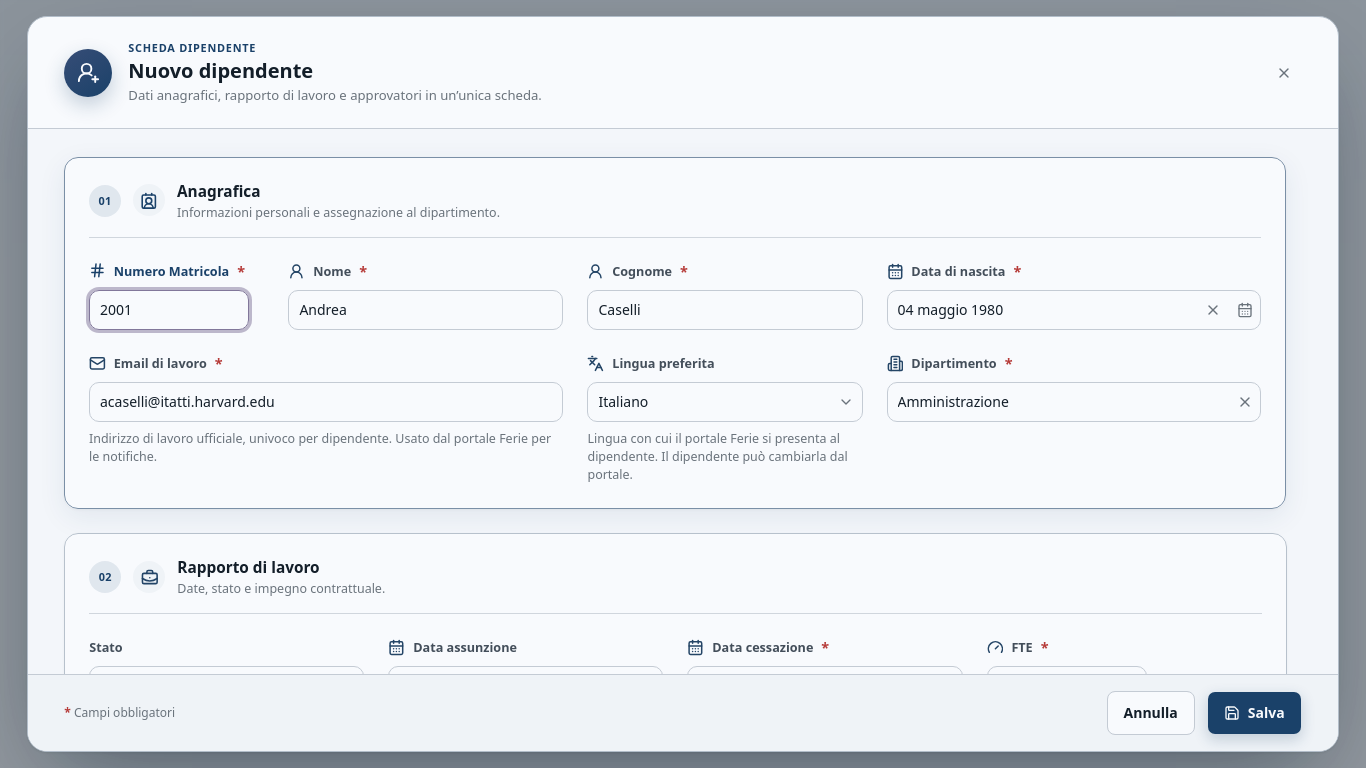
EmployeeForm validation feedback › explains the cross-field date rules on the field they blame
Click the button "Salva". click: (1254, 713)
box: [1207,691,1302,735]
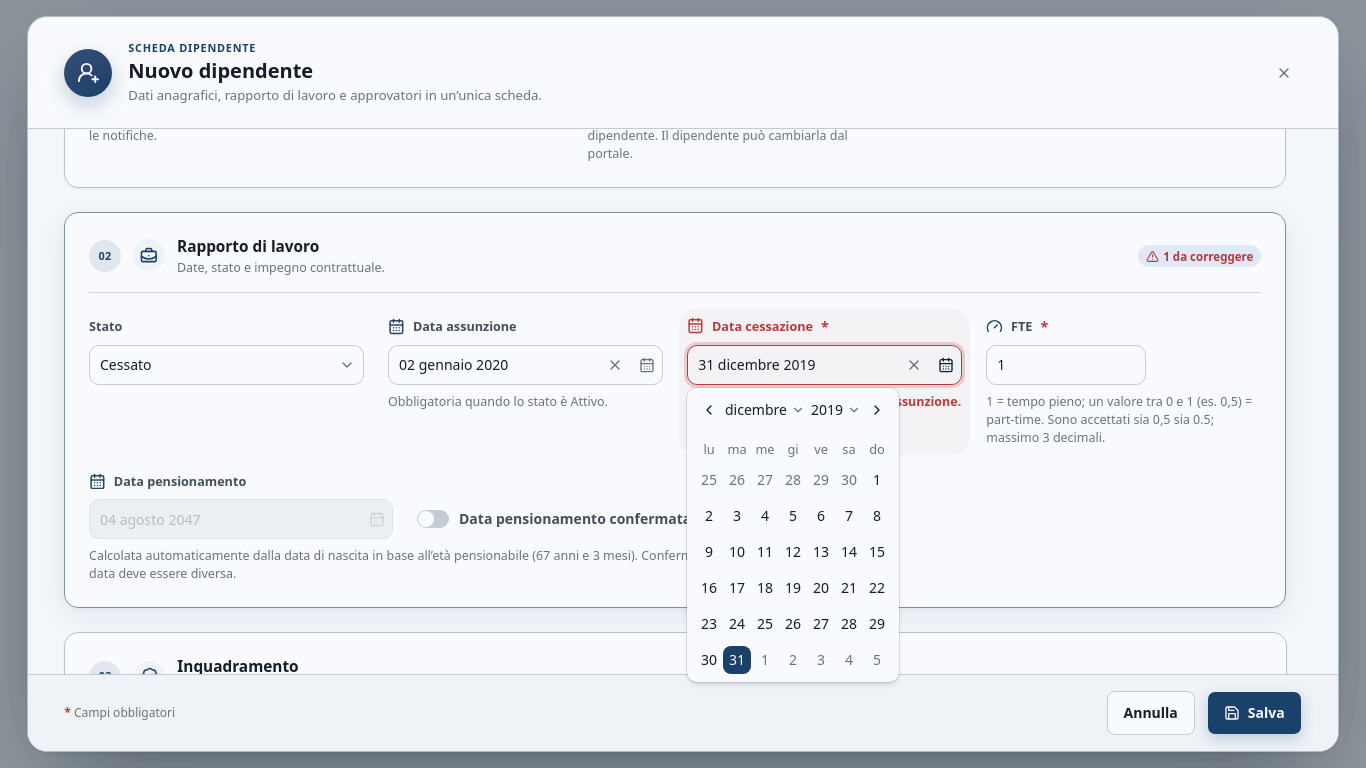
Expected: the message reads "Non può precedere la data di assunzione.", [705,392,962,409]
